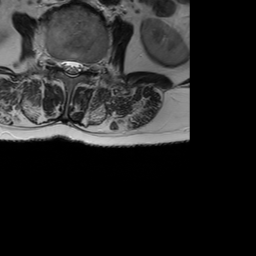CCS_normal: (68, 51, 75, 84)
LFS_normal: (83, 52, 92, 79)
LLS_normal: (75, 53, 83, 79)
RFS_normal: (52, 47, 60, 75)
RLS_normal: (60, 51, 68, 77)
